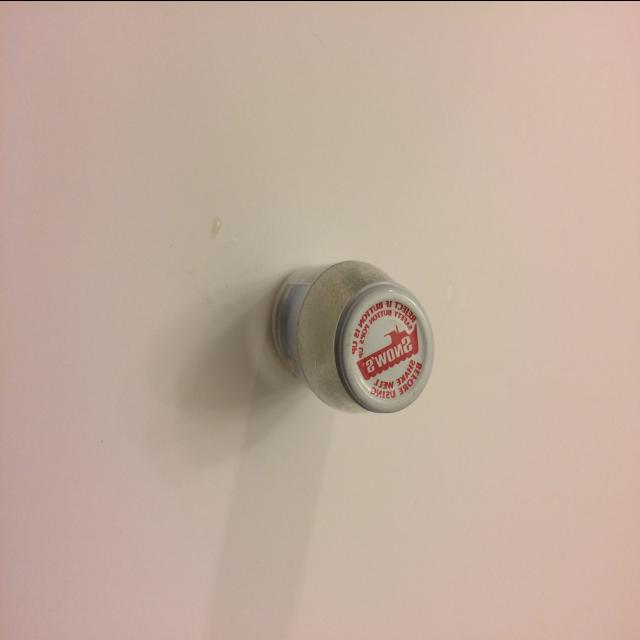glass: (270, 246, 433, 414)
